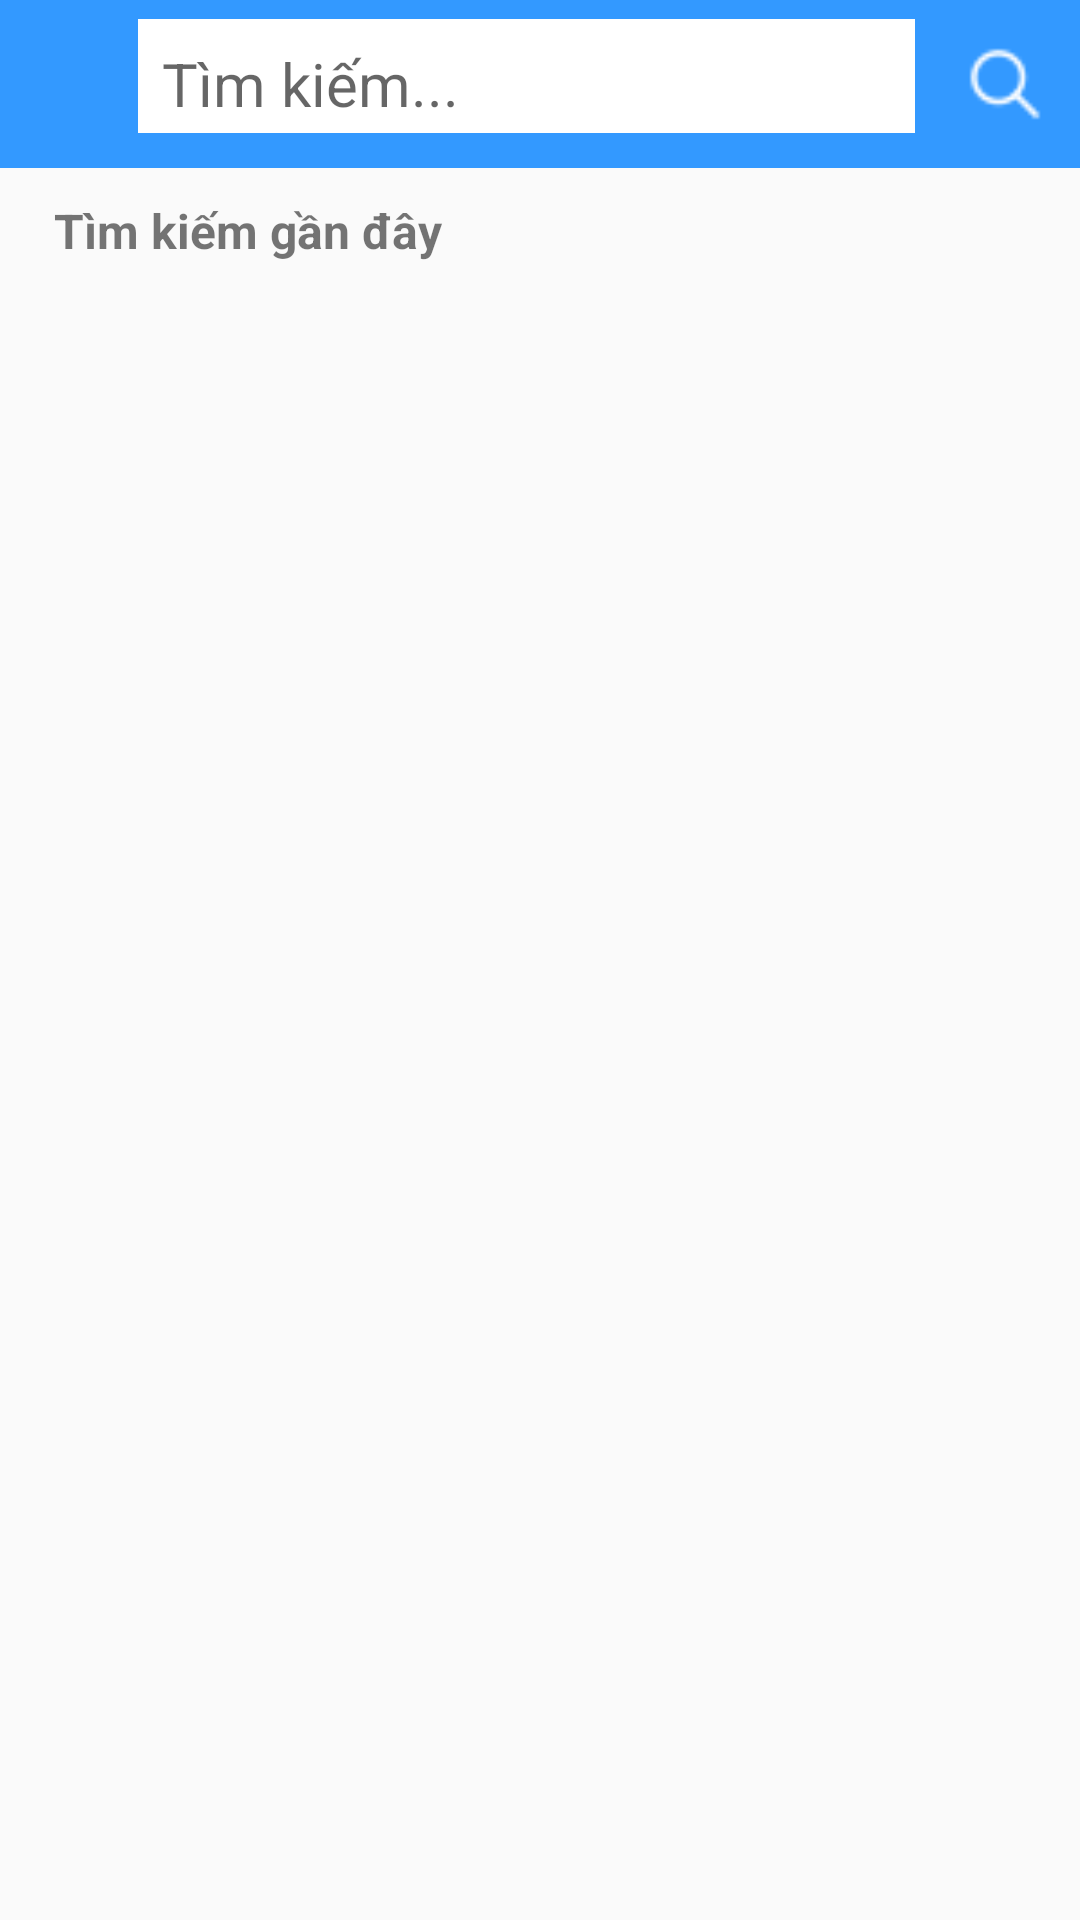

Icon click points for this 1080w x 1920h phone screenshot, format (x,y):
search: (1005,84)
